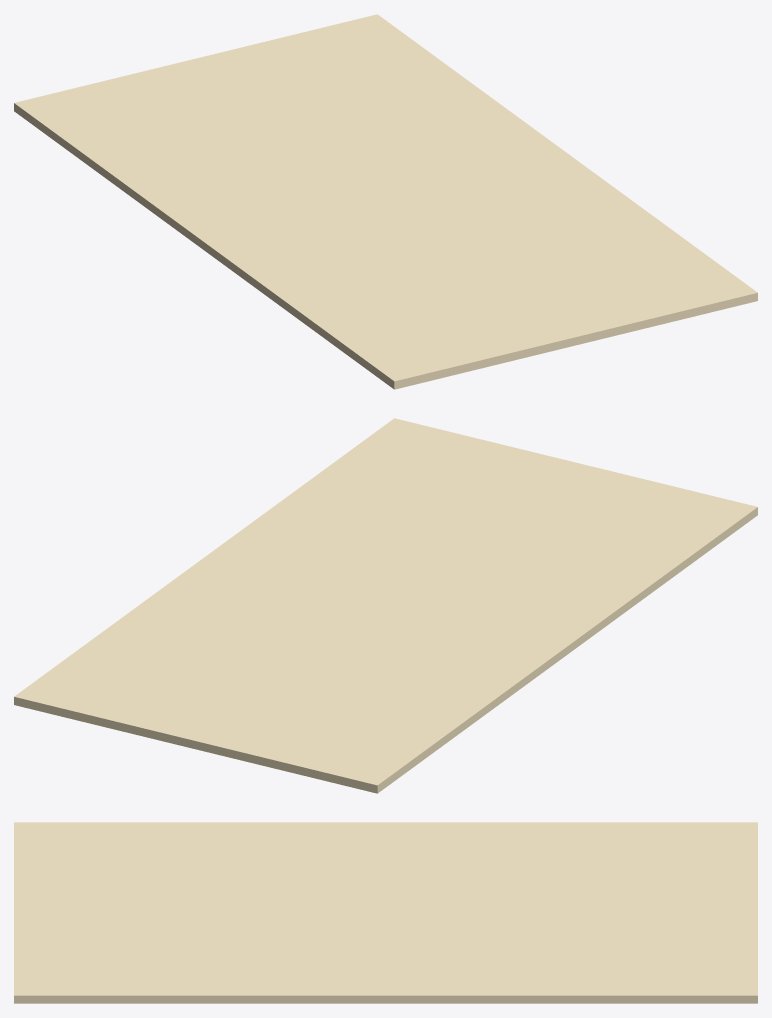
The model's file is M_Piso.fbx.
The picture shows the model from 3 angles, top to bottom: view 1: azimuth 30°, elevation 25°; view 2: azimuth 150°, elevation 25°; view 3: azimuth 270°, elevation 25°; orthographic projection. The views are drawn at different scales.
Visible parts, largest first — view 1: Piso_casa; view 2: Piso_casa; view 3: Piso_casa.
Part boxes in pixels (x1,y1,x2,y2): Piso_casa: (14,14,757,389); Piso_casa: (14,418,757,793); Piso_casa: (14,822,757,1003).
Size of the model in its own units: 98.67 by 2.15 by 179.
